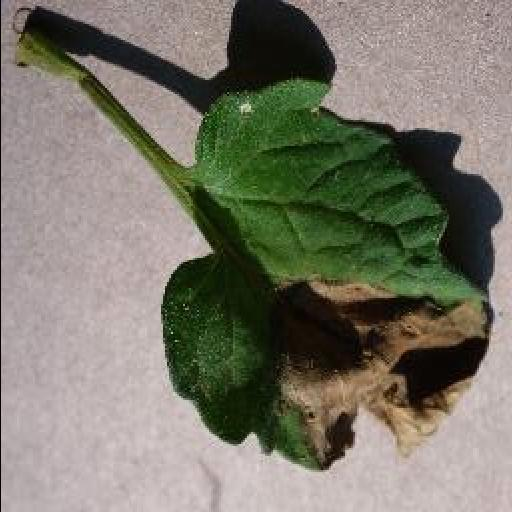disease_tomato: (160, 80, 494, 478)
